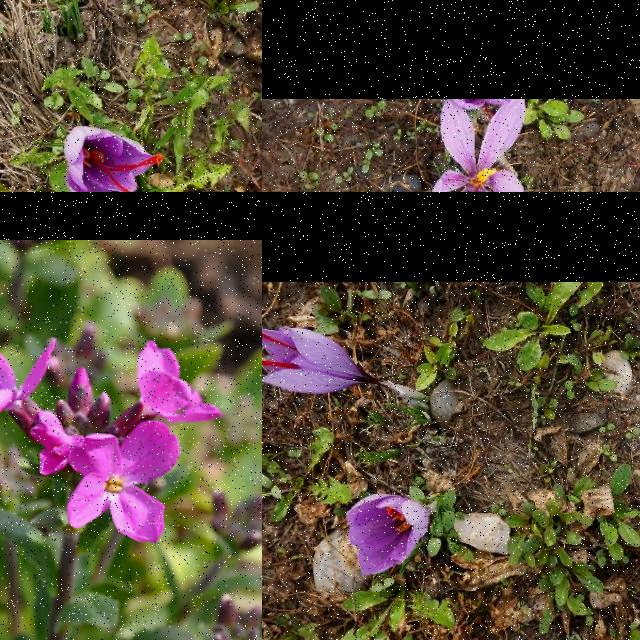flower: (430, 99, 524, 192), (262, 325, 367, 394), (346, 494, 430, 578), (64, 124, 166, 192)
